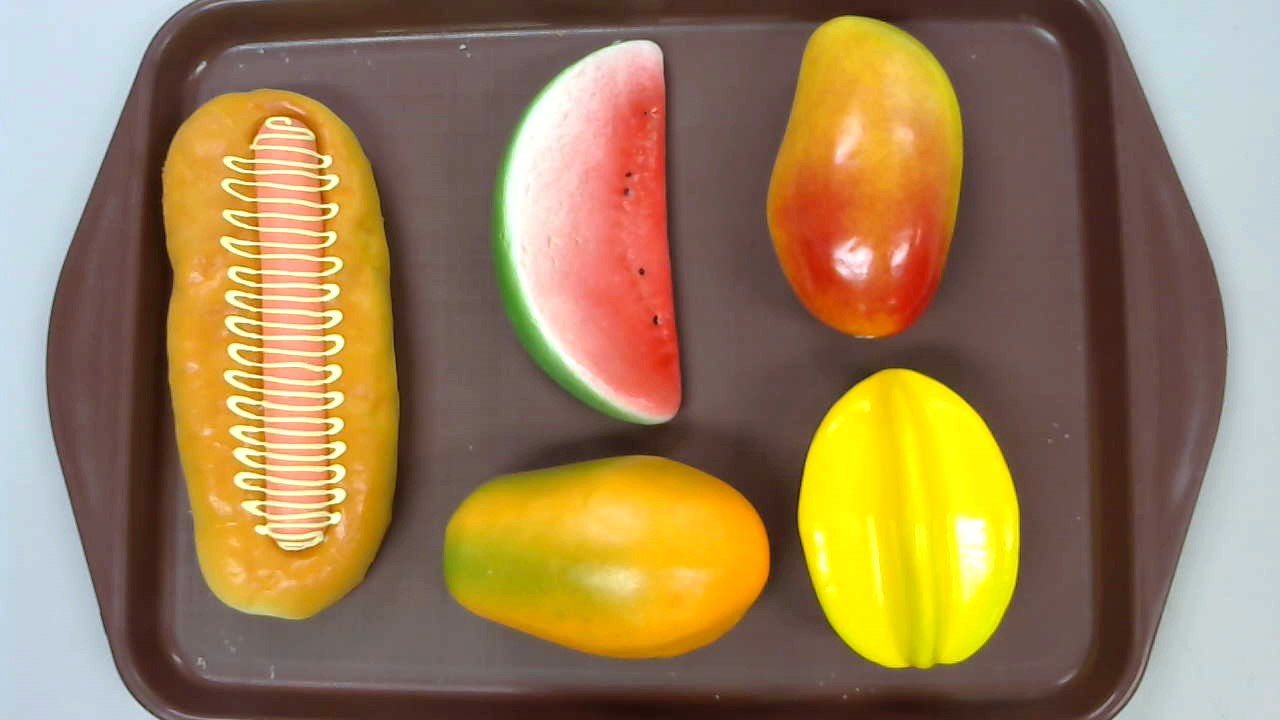hot dog: (160, 88, 400, 621)
papya: (443, 454, 771, 659)
red mango: (765, 15, 964, 337)
star fruit: (798, 367, 1019, 668)
water melon: (489, 40, 683, 425)
